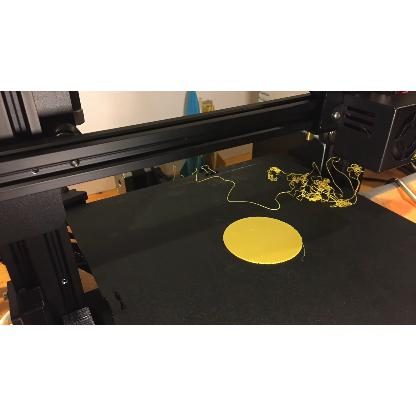fail: (260, 166, 364, 210)
